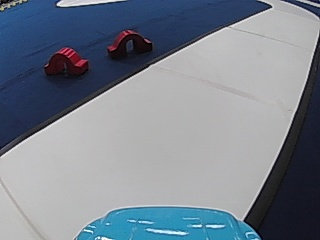bridge: (43, 43, 89, 77), (107, 25, 152, 59)
